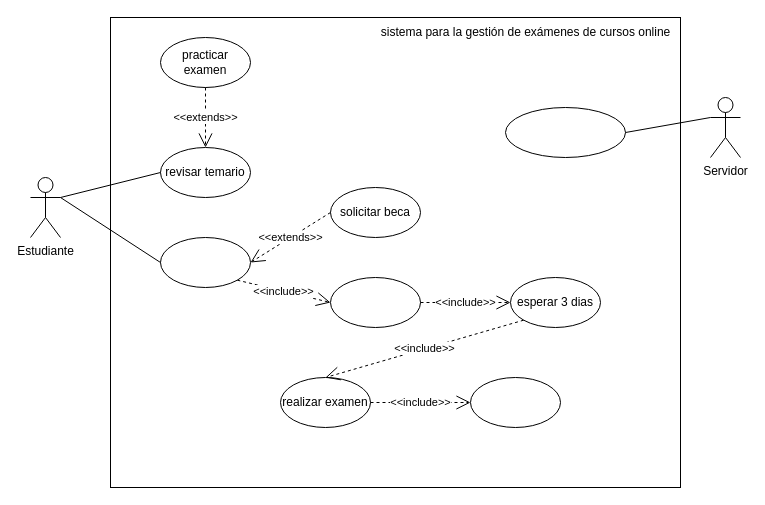
The diagram is 765 pixels wide and 505 high, and some of its shapes have lost their labels. Each missing label, with the centre of its shape:
adjuntar dni: pixel 375 302
almacenar nota: pixel 515 402
enviar email con la nota: pixel 565 132
inscribirse en el examen: pixel 205 262
